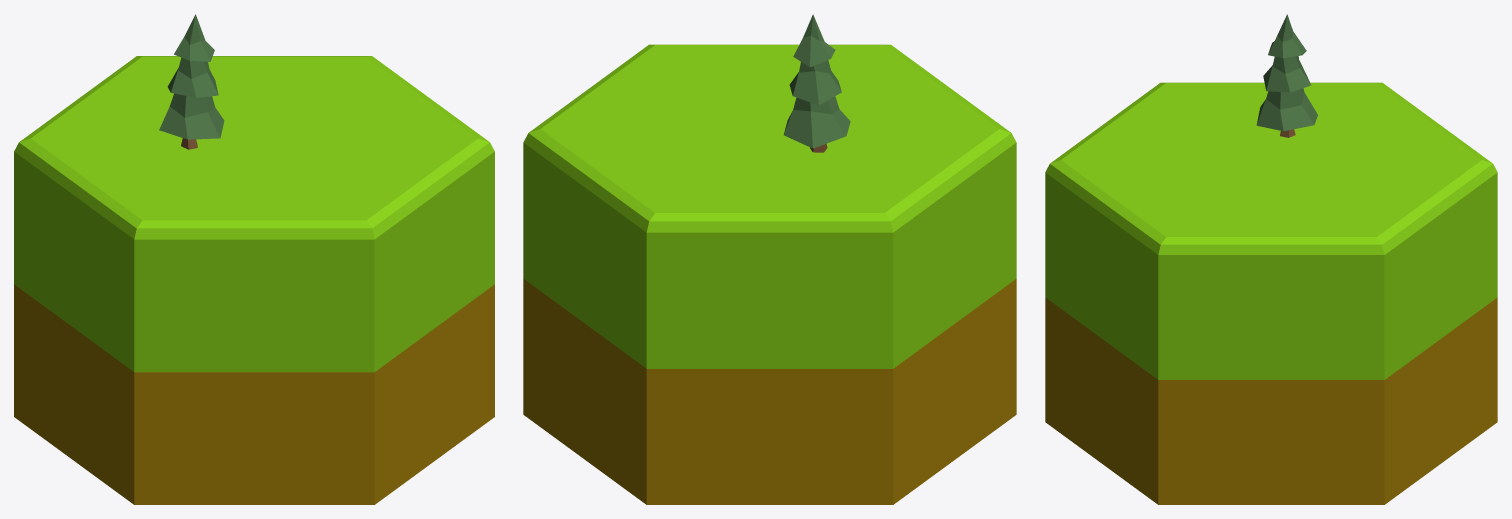
Rendered from Hex Tile SingleTree 01.glb.
The picture shows the model from 3 angles, left to right: view 1: azimuth 30°, elevation 25°; view 2: azimuth 150°, elevation 25°; view 3: azimuth 270°, elevation 25°; orthographic projection. The views are drawn at different scales.
Parts seen in each view (by area): view 1: Hex.Tile.SingleTree; view 2: Hex.Tile.SingleTree; view 3: Hex.Tile.SingleTree.
Boxes of the visible parts, <box> form: Hex.Tile.SingleTree: <box>14,14,494,504</box>; Hex.Tile.SingleTree: <box>523,14,1016,504</box>; Hex.Tile.SingleTree: <box>1045,14,1497,504</box>.
Bounding box in the file's own units: 1.73 × 1.88 × 2.
